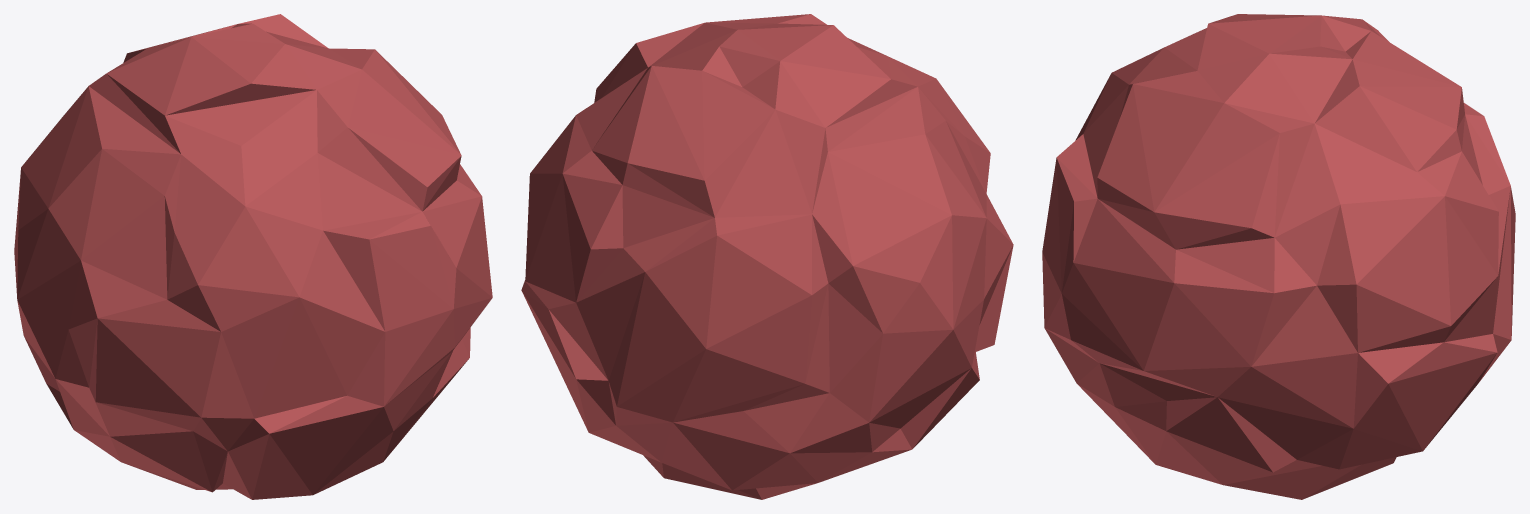
Rendered from dry_planet9.fbx.
3 views of the same model, side by side, from view 1: azimuth 30°, elevation 25°; view 2: azimuth 150°, elevation 25°; view 3: azimuth 270°, elevation 25° (orthographic).
Parts seen in each view (by area): view 1: dry_planet9; view 2: dry_planet9; view 3: dry_planet9.
Part boxes in pixels (box(x1,y1,x2,y2)): dry_planet9: box(14, 14, 492, 499); dry_planet9: box(521, 14, 1013, 499); dry_planet9: box(1042, 14, 1515, 499).
Bounding box in the file's own units: 212 × 213 × 208.
